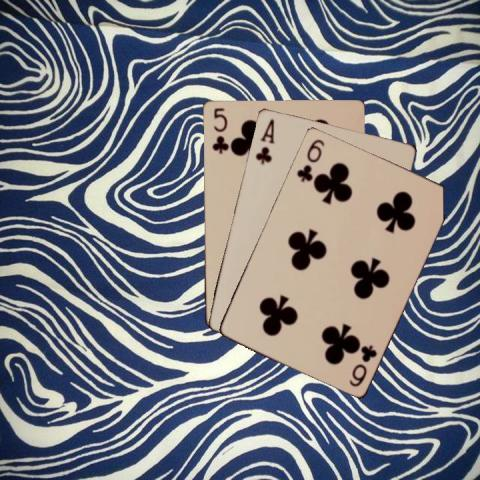5c: (209, 104, 227, 154)
6c: (293, 136, 327, 184), (345, 341, 379, 388)
Ac: (252, 115, 275, 166)
